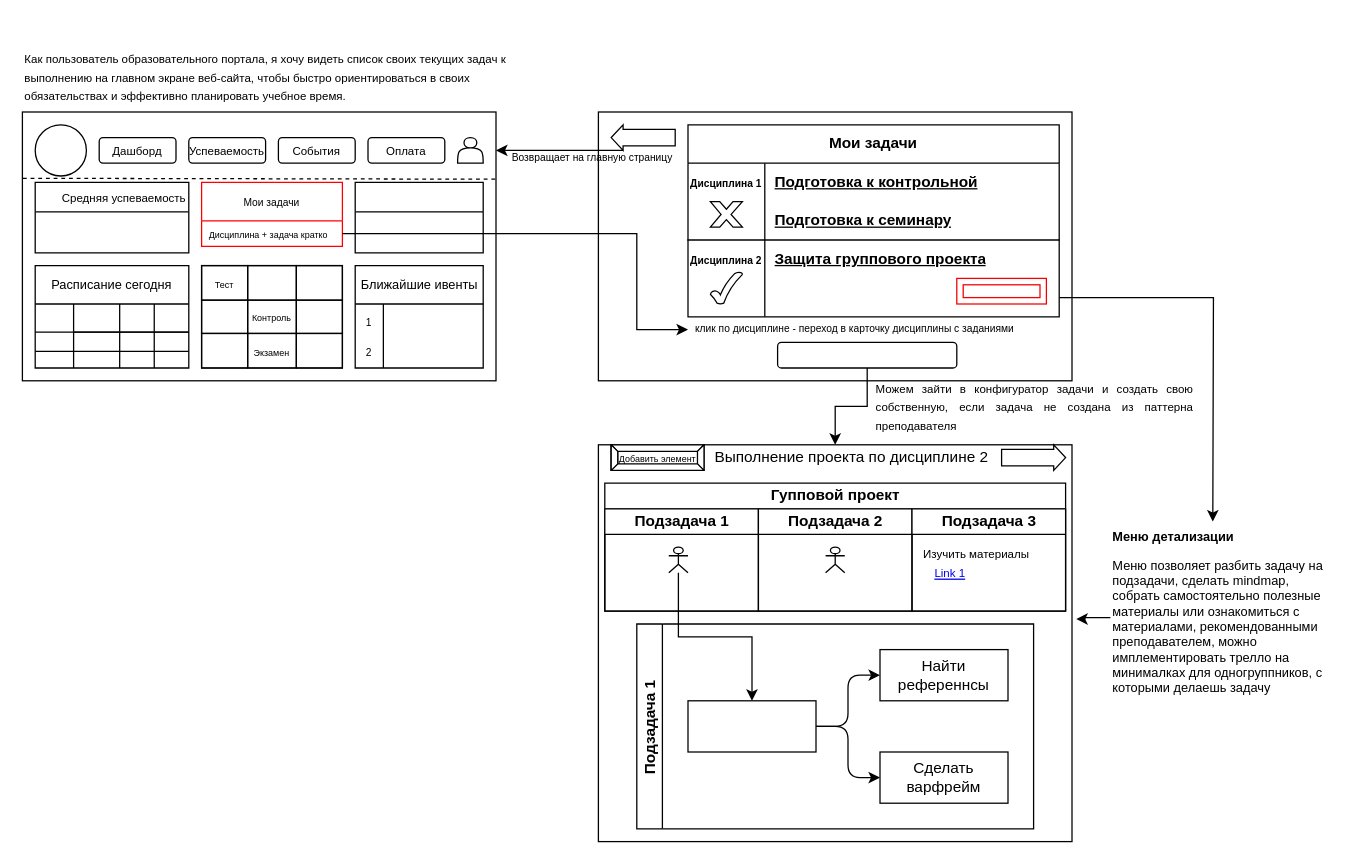
Some shapes in this 1350 by 864 pixel diagram are drawn without their labels. The centre of each missing label's shape, as x and y in pixels:
"Logo" belongs at [60,150].
"Детализировать" belongs at [1001,290].
"Добавить самостоятельно" belongs at [866,354].
"к списку" belongs at [1033,457].
"Контакты кураторов" belongs at [418,217].
"на главную" belongs at [642,137].
"ответственный 1 + описание" belongs at [678,559].
"ответственный 2 + описание" belongs at [834,559].
"Создать прототип" belongs at [751,726].
